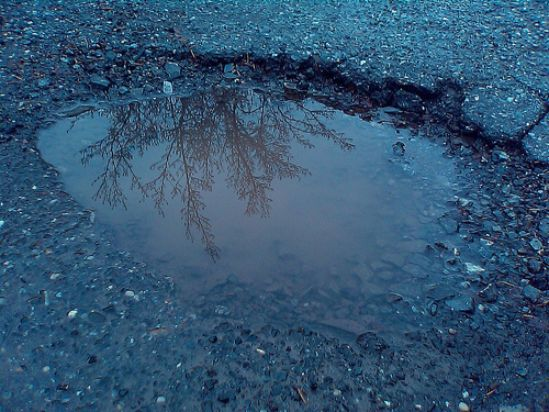pothole: (25, 46, 535, 320)
